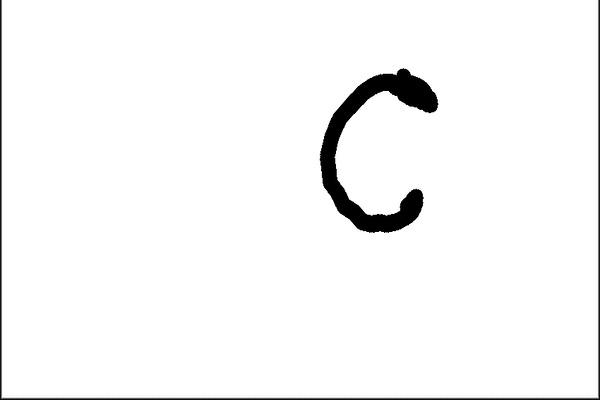C: (315, 62, 447, 240)
